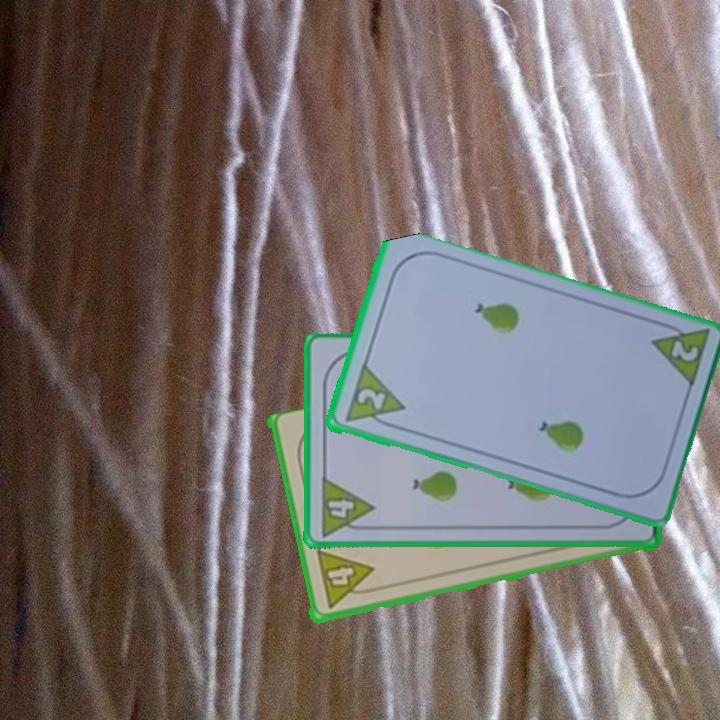2p: (646, 317, 712, 392), (340, 363, 407, 433)
4p: (313, 547, 379, 612), (316, 474, 376, 539)
